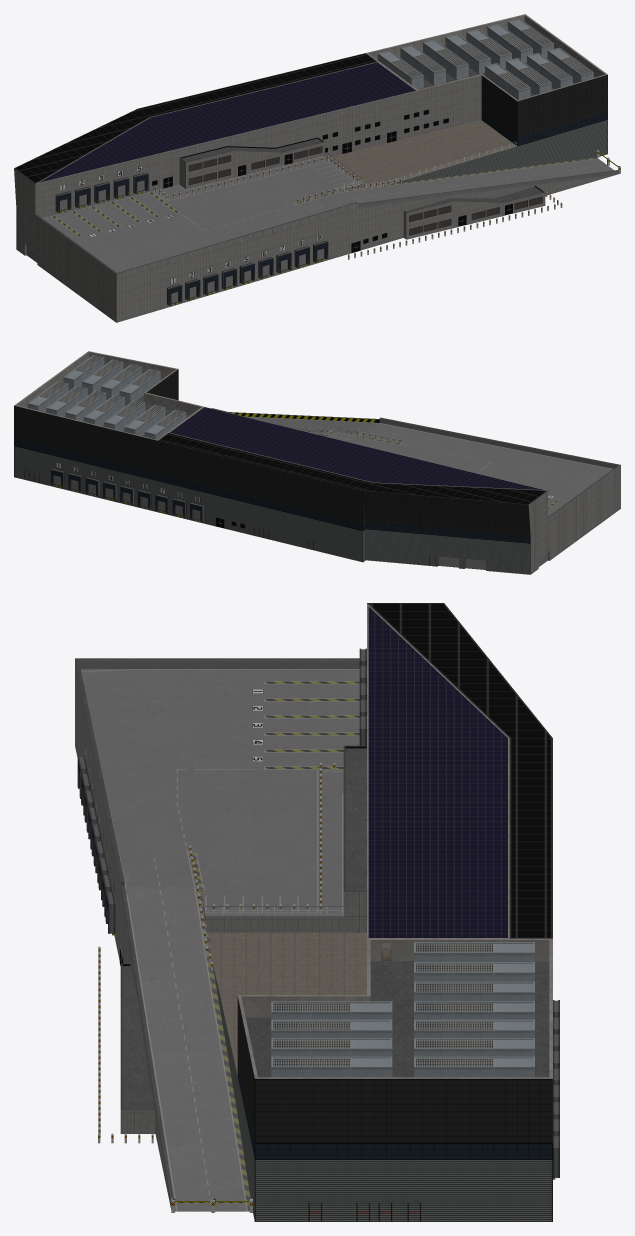
3 views of the same model, one above another, from view 1: azimuth 30°, elevation 25°; view 2: azimuth 150°, elevation 25°; view 3: azimuth 270°, elevation 25° (orthographic). The views are drawn at different scales.
Visible parts, largest first — view 1: bat2; view 2: bat2; view 3: bat2.
Boxes of the visible parts, box(x1,y1,x2,y2) form: bat2: box(14, 14, 620, 322); bat2: box(14, 351, 620, 574); bat2: box(75, 603, 559, 1221).
Bounding box in the file's own units: 1684 × 241 × 726.
Materials: 1 (1 with a texture image).
